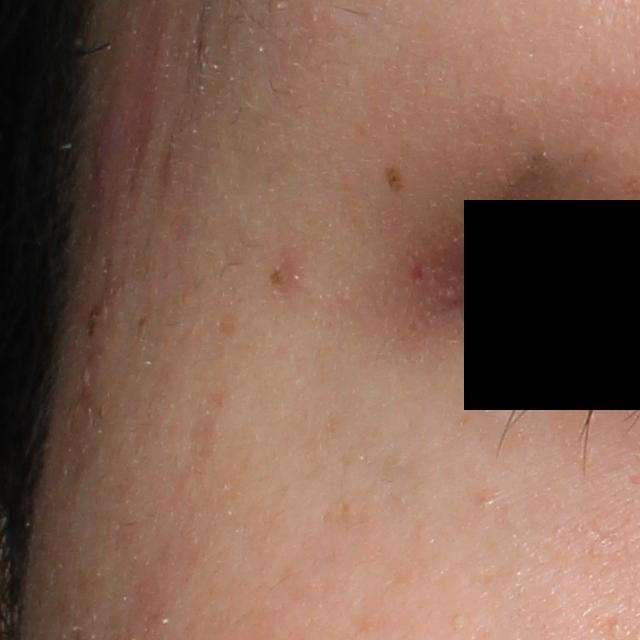comedo: (479, 493, 497, 507), (607, 620, 624, 634)
melasma: (385, 164, 407, 195)
